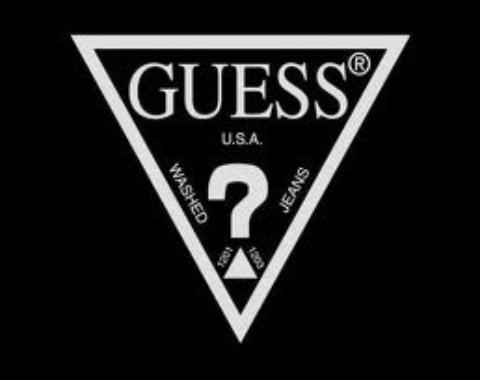GUESS: (61, 25, 435, 348)
